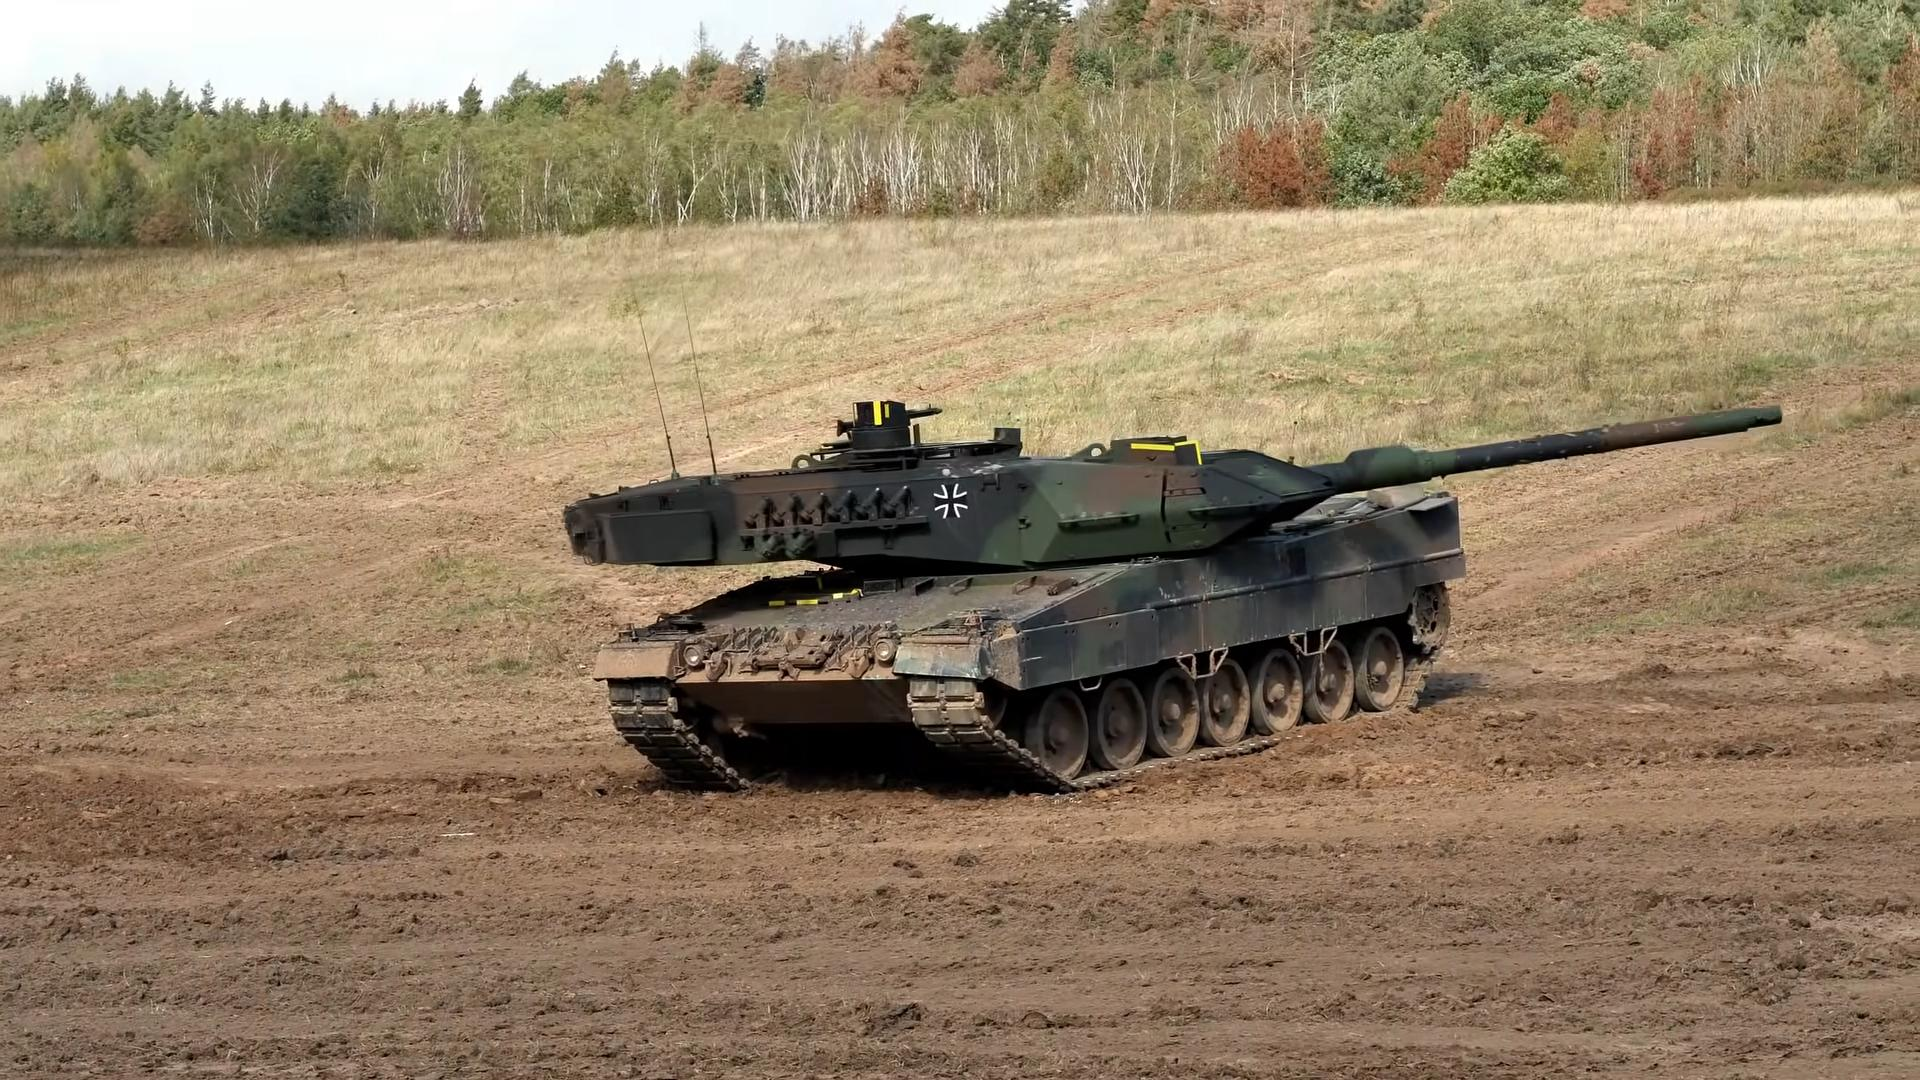tank: (566, 402, 1779, 791)
